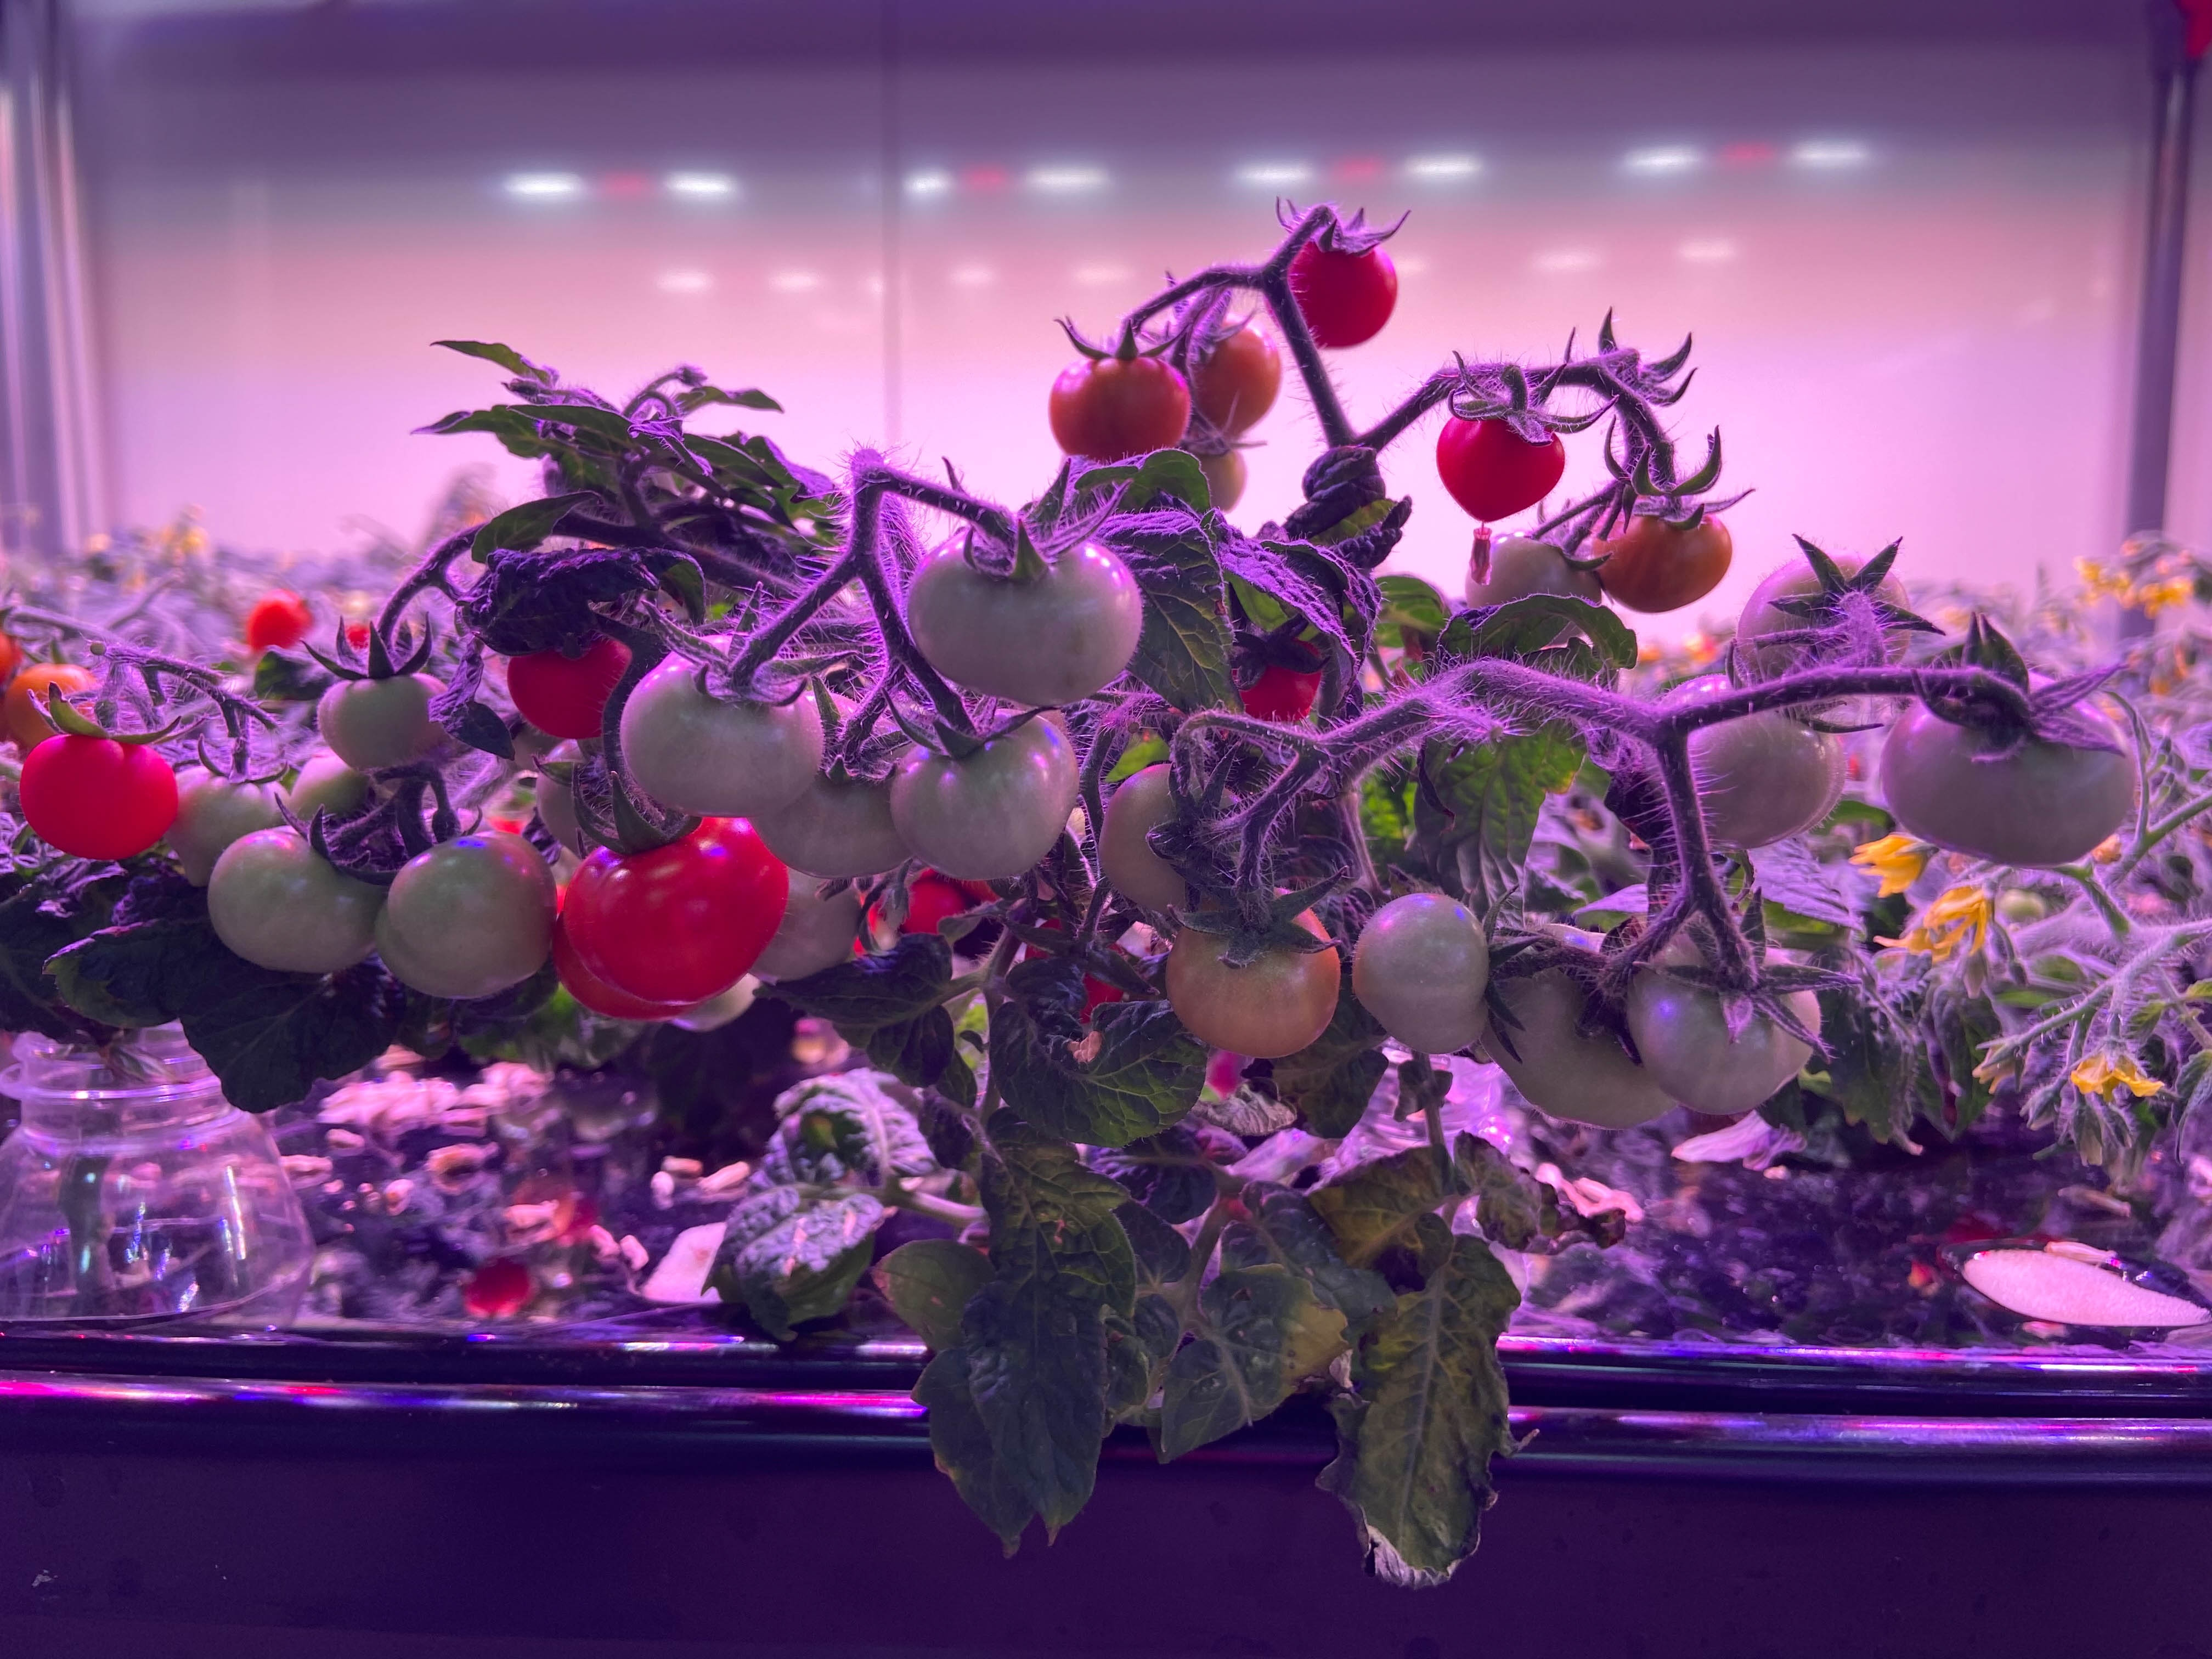green: (1878, 680, 2141, 870), (902, 525, 1146, 713), (615, 633, 833, 819), (1656, 667, 1855, 854), (1627, 932, 1818, 1121), (1501, 932, 1683, 1129), (894, 711, 1075, 885), (376, 831, 557, 1002), (204, 819, 387, 979), (1733, 549, 1905, 708), (1346, 887, 1496, 1056), (1092, 753, 1238, 924), (754, 749, 921, 880), (745, 861, 862, 985), (320, 667, 449, 779), (164, 767, 280, 878), (1480, 533, 1587, 617), (533, 756, 610, 854), (282, 755, 380, 828), (1160, 434, 1249, 512)
red: (554, 809, 792, 1021), (1162, 894, 1350, 1061), (12, 725, 183, 864), (496, 596, 655, 741), (1042, 347, 1190, 469), (1595, 493, 1735, 613), (1432, 399, 1569, 519), (1019, 908, 1141, 1042), (1163, 305, 1282, 437), (1278, 234, 1404, 354), (850, 868, 977, 971), (2, 660, 118, 755), (1228, 633, 1329, 730), (246, 591, 312, 652), (0, 622, 31, 690), (338, 615, 380, 662)
